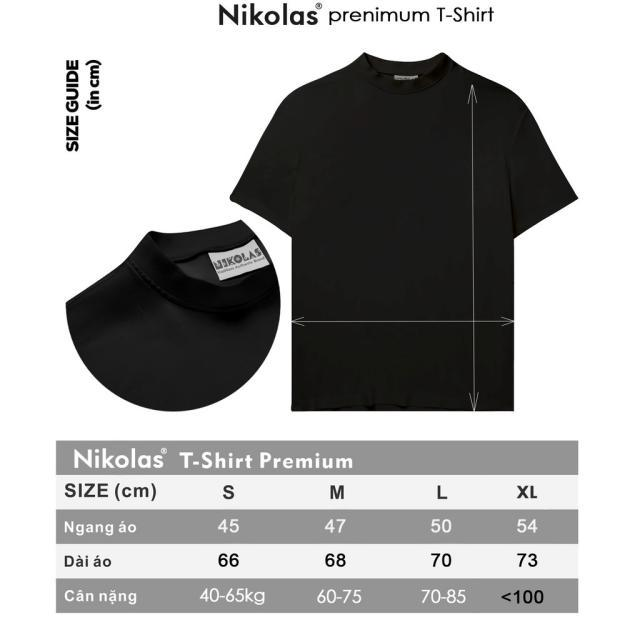Shirt: (226, 48, 577, 410)
